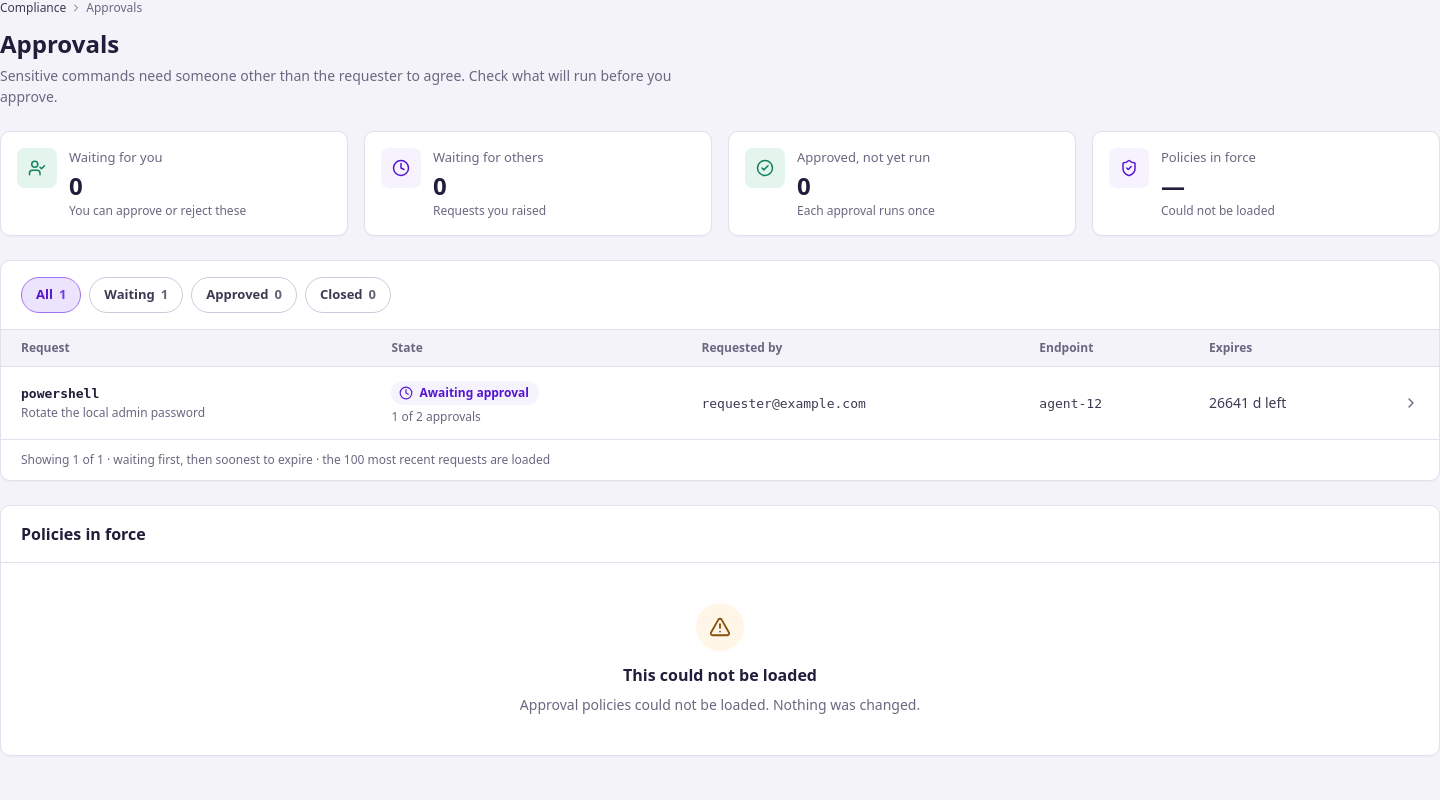
Test: an operator who already decided gets no second decision
Click the row named "Review powershell request" at (720, 403), box x1=1 y1=366 x2=1439 y2=439
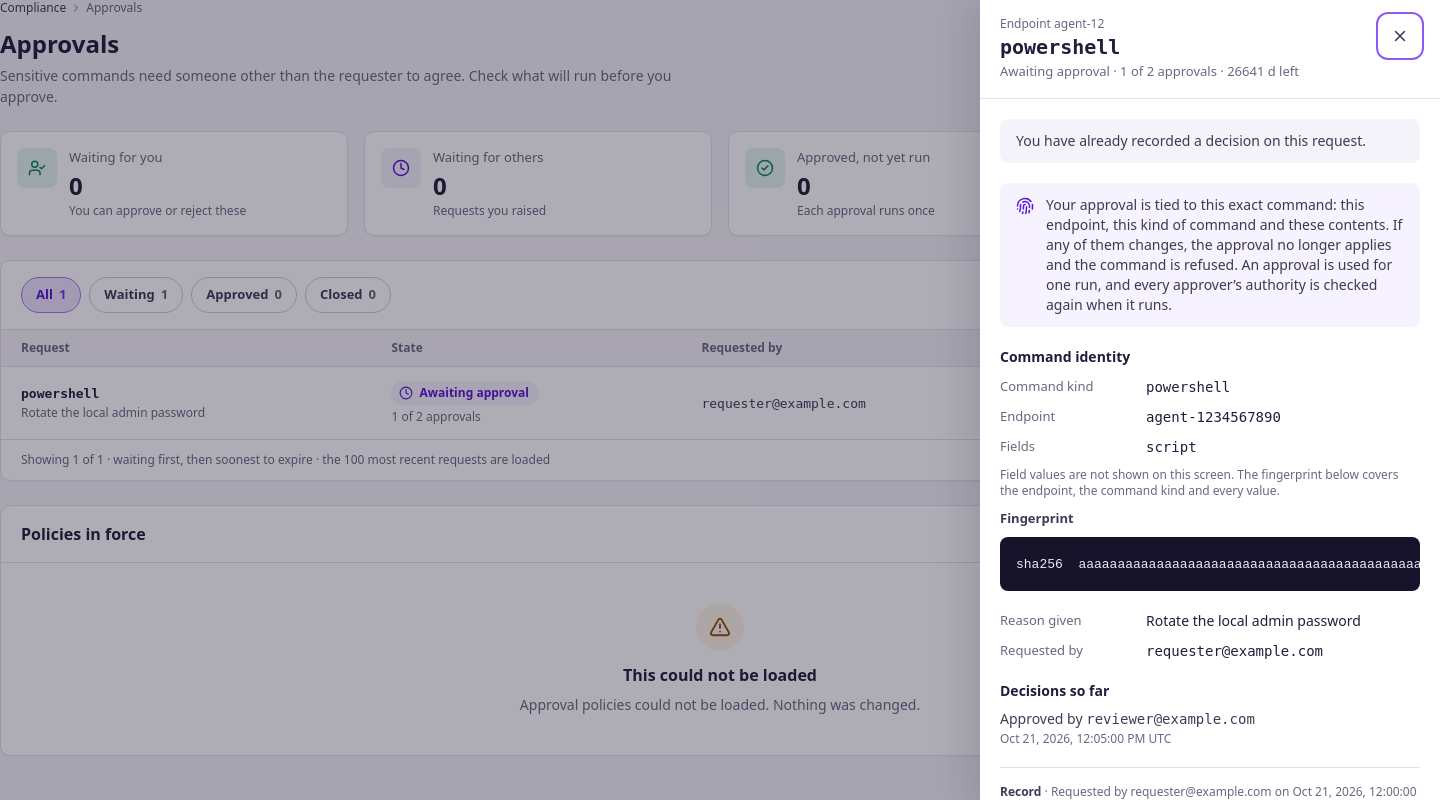
Expected: the text "You have already recorded a decision on this request." is shown, x1=1000 y1=118 x2=1420 y2=162
